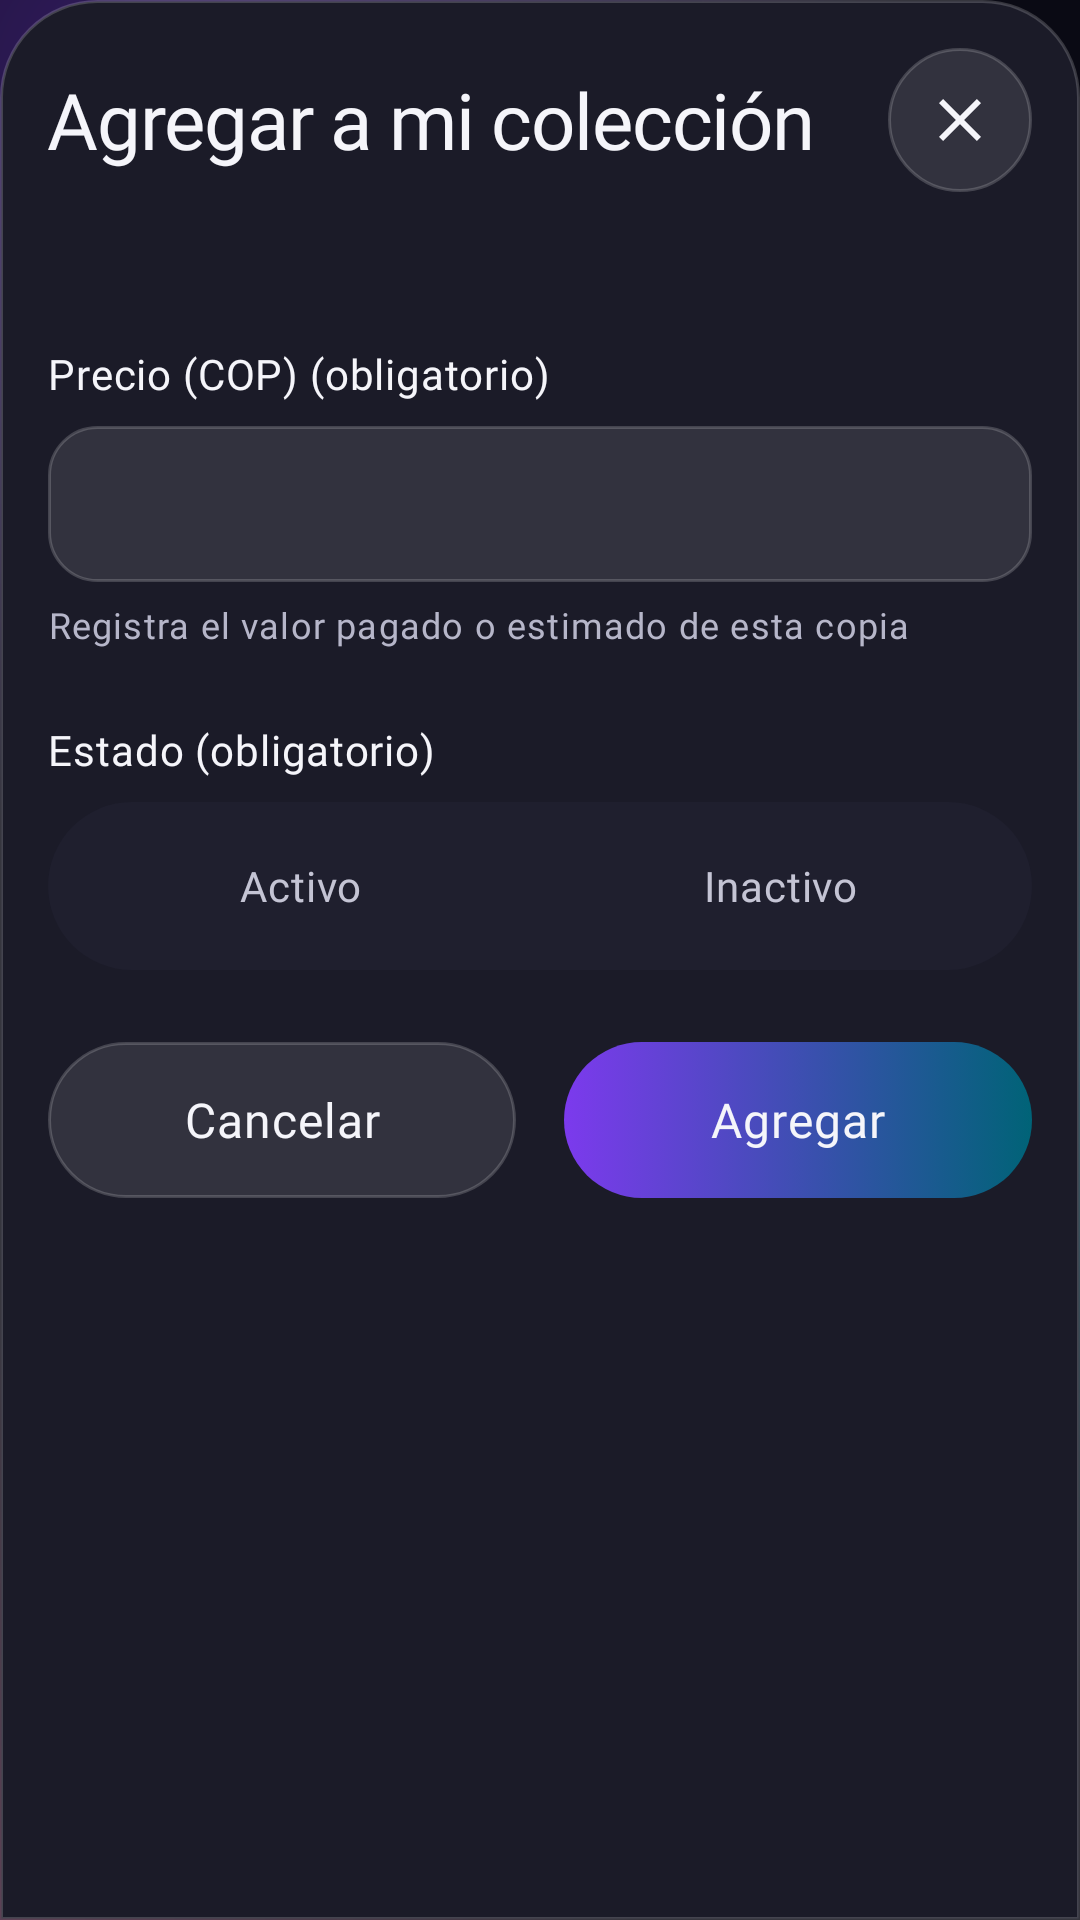

Point at icon controls on the screen. Image size 1080*1920, points as point (x, y).
Cerrar: point (960, 120)
